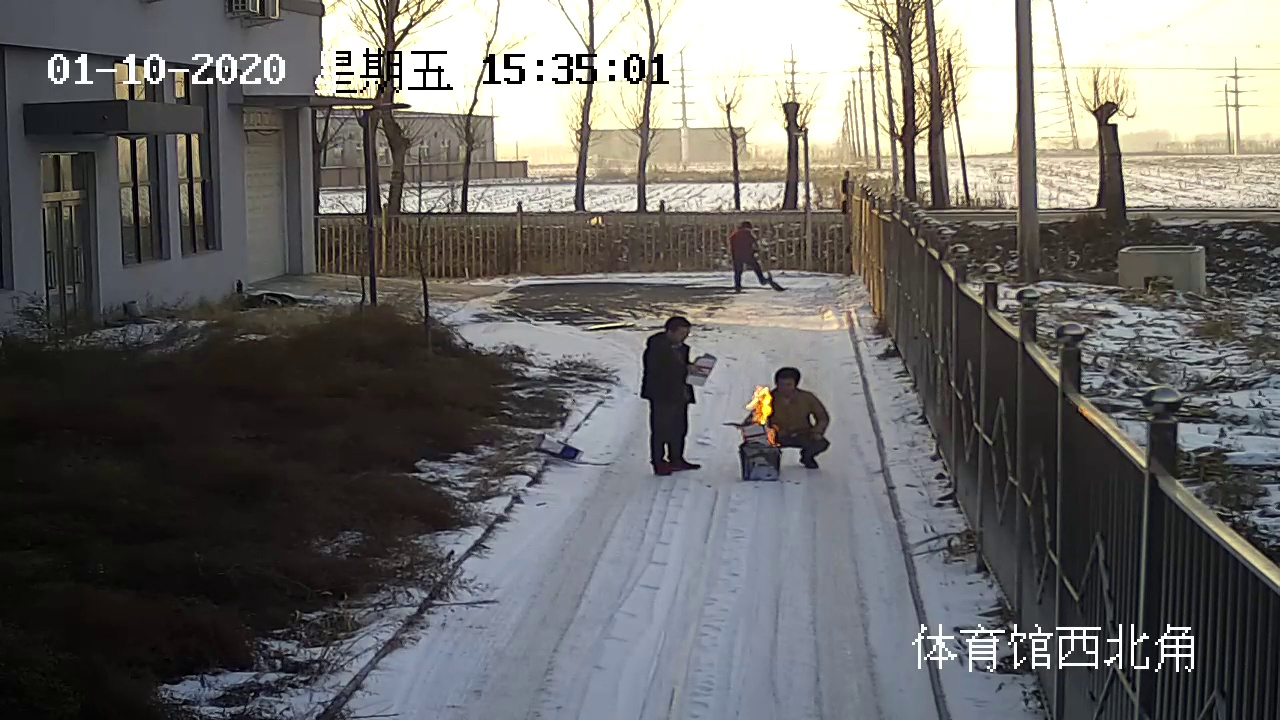fire: (745, 383, 774, 432)
